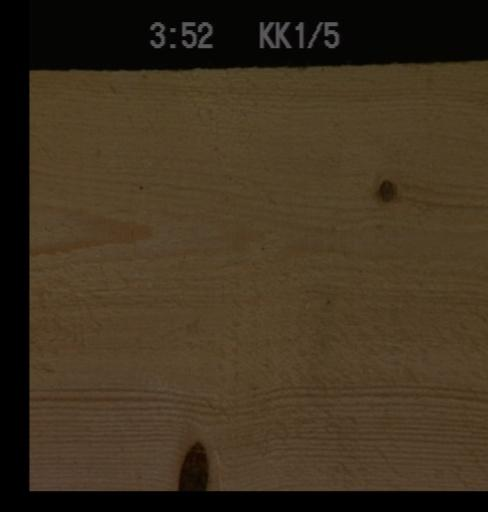sound_knot: (377, 177, 396, 202)
